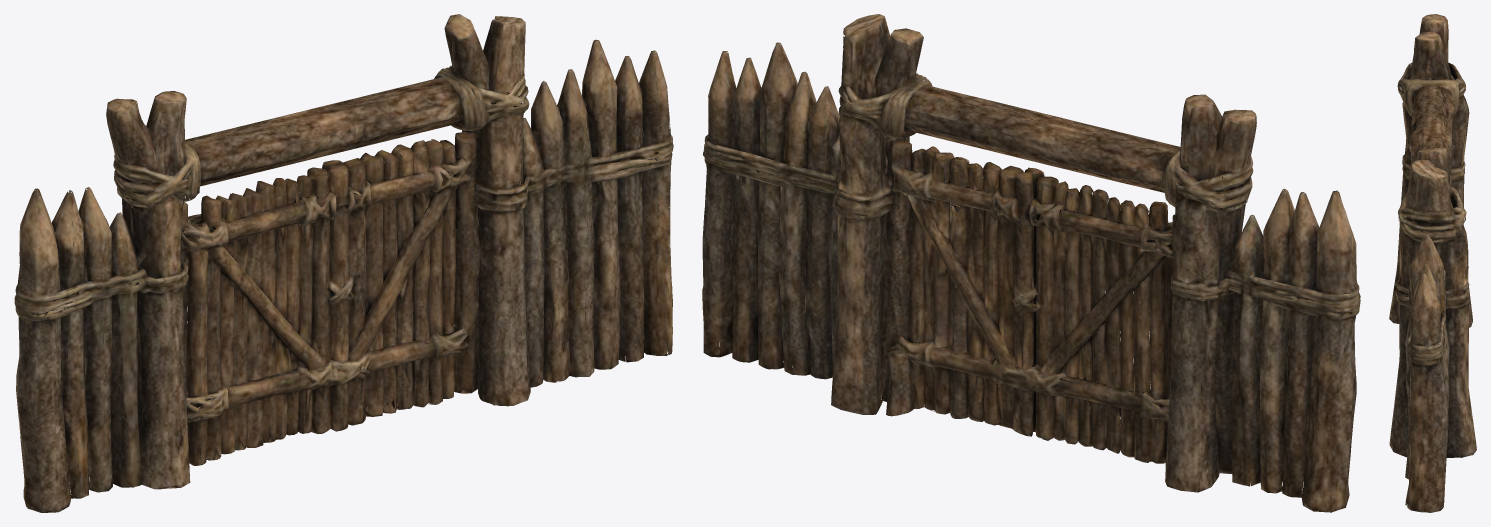
File: woodgate_mid.glb
3 views of the same model, side by side, from view 1: azimuth 30°, elevation 25°; view 2: azimuth 150°, elevation 25°; view 3: azimuth 270°, elevation 25° (orthographic). The views are drawn at different scales.
Visible parts, largest first — view 1: model; view 2: model; view 3: model.
Boxes of the visible parts, x1=… form: model: x1=14, y1=14, x2=673, y2=512; model: x1=702, y1=14, x2=1360, y2=512; model: x1=1389, y1=14, x2=1476, y2=512.
Bounding box in the file's own units: 1 × 0.5534 × 0.1492.
Materials: 1 (1 with a texture image).
